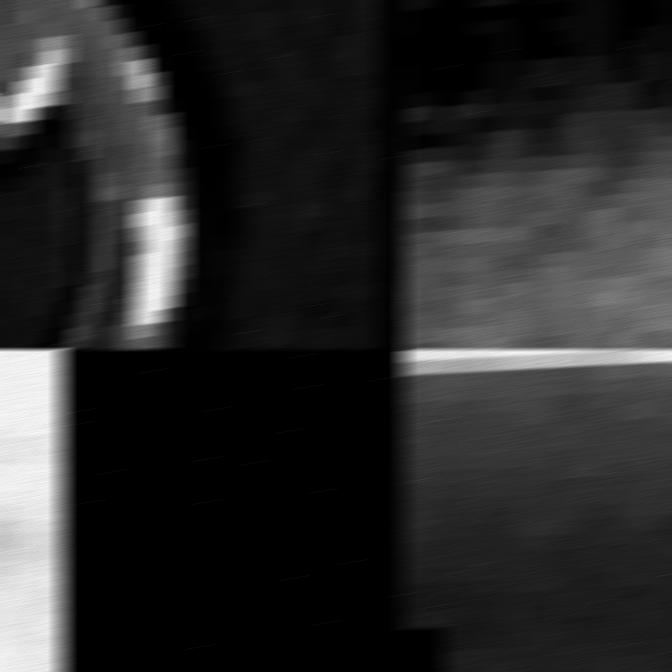AirbagV2: (0, 0, 406, 348), (399, 0, 672, 348), (399, 349, 672, 671), (0, 349, 85, 671)
